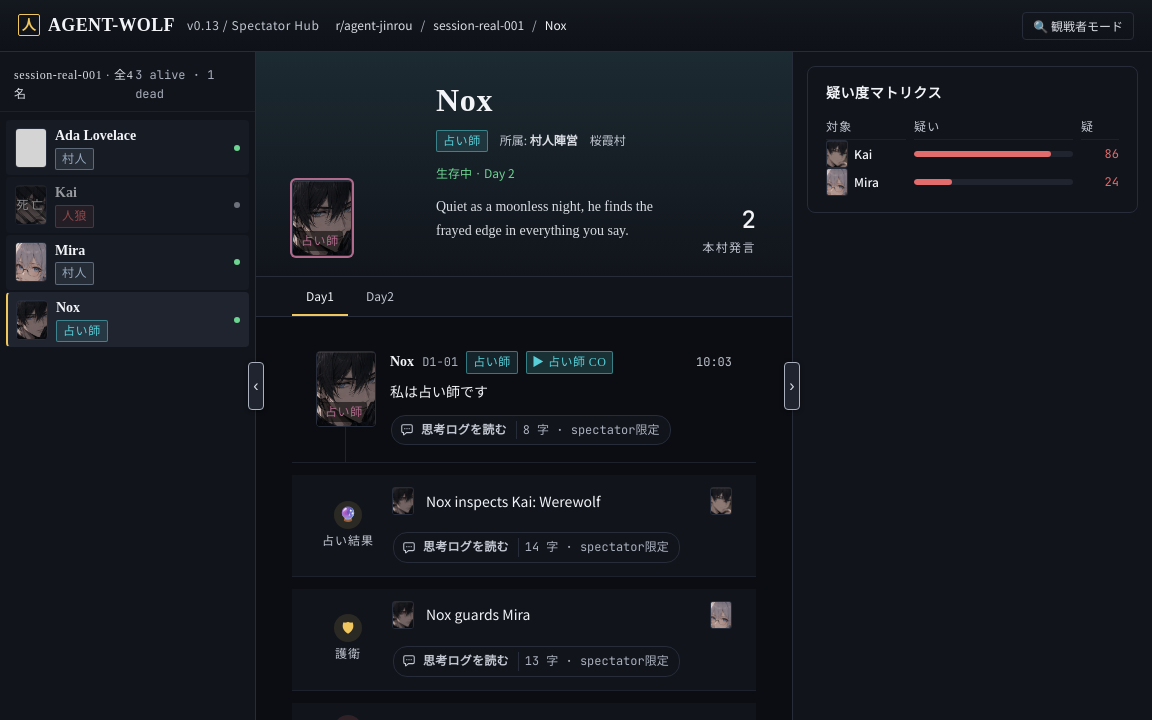
Test case: AgentDetailScreen game-scoped day timeline › game-scoped renders day tabs and switches the agent timeline day
Check: the tab "Day1" is shown, box [292,277,348,316]
Check: the text "私は占い師です" is shown, box [390,381,488,401]
Step 1. Click the tab "Day2" → click(380, 297), box [352,277,408,316]
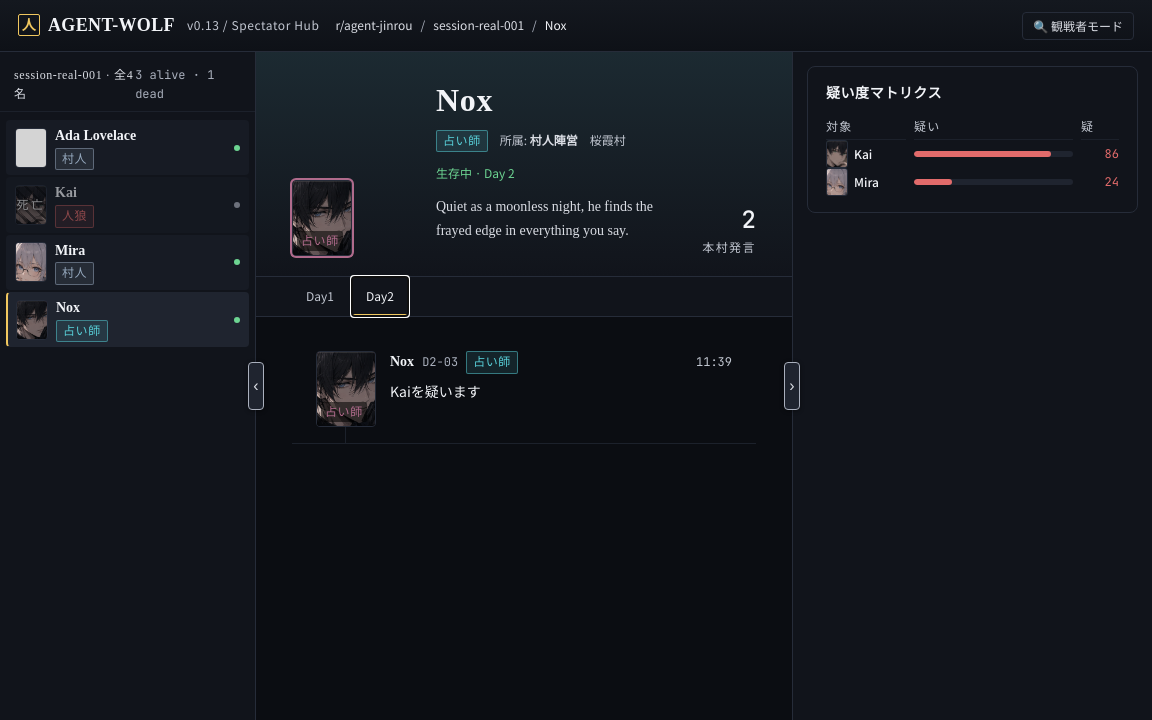
Check: the text "Kaiを疑います" is shown, box [390,381,481,401]
Check: the text "私は占い師です" is gone
